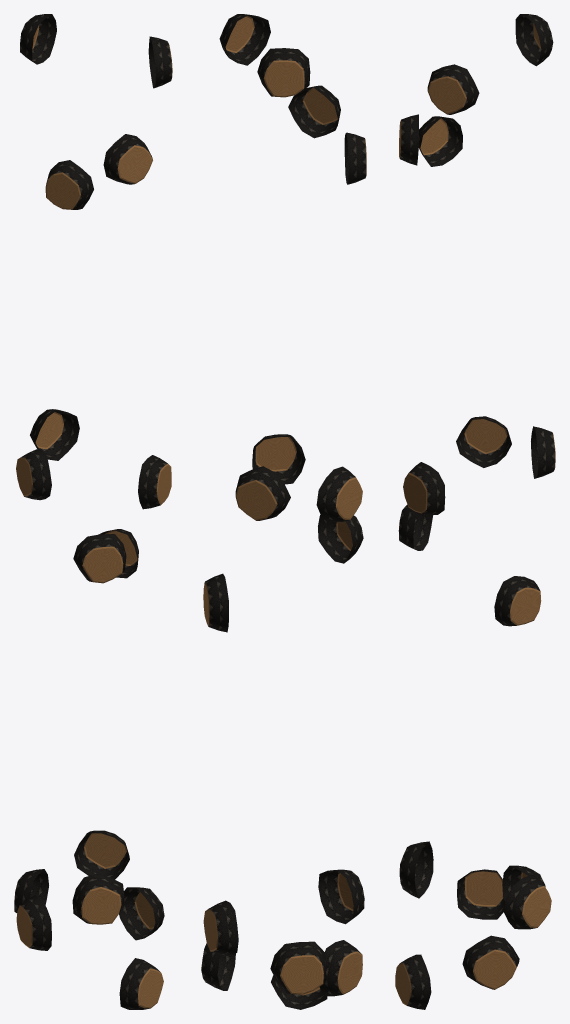
Rendered from Sitka_Mature_02_MediumPruned_Recent_LOD2.fbx.
3 views of the same model, side by side, from view 1: azimuth 30°, elevation 25°; view 2: azimuth 150°, elevation 25°; view 3: azimuth 270°, elevation 25° (orthographic). The views are drawn at different scales.
Visible parts, largest first — view 1: Sitka_Mature_02_MediumPruned_Recent_LOD2_Scars; view 2: Sitka_Mature_02_MediumPruned_Recent_LOD2_Scars; view 3: Sitka_Mature_02_MediumPruned_Recent_LOD2_Scars.
Part boxes in pixels (<box>): Sitka_Mature_02_MediumPruned_Recent_LOD2_Scars: <box>14,14,172,1009</box>; Sitka_Mature_02_MediumPruned_Recent_LOD2_Scars: <box>201,14,366,1009</box>; Sitka_Mature_02_MediumPruned_Recent_LOD2_Scars: <box>395,14,555,1009</box>.
Size of what is drawn, in the model's own units: 35.02 by 236 by 35.26.
2 materials, 2 textured.
